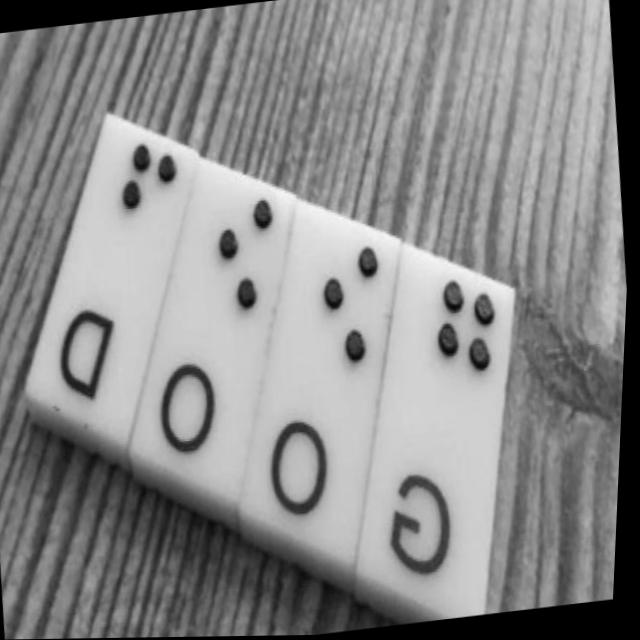braiile: (416, 260, 513, 481), (302, 214, 400, 425), (195, 165, 290, 363), (92, 123, 190, 306)
